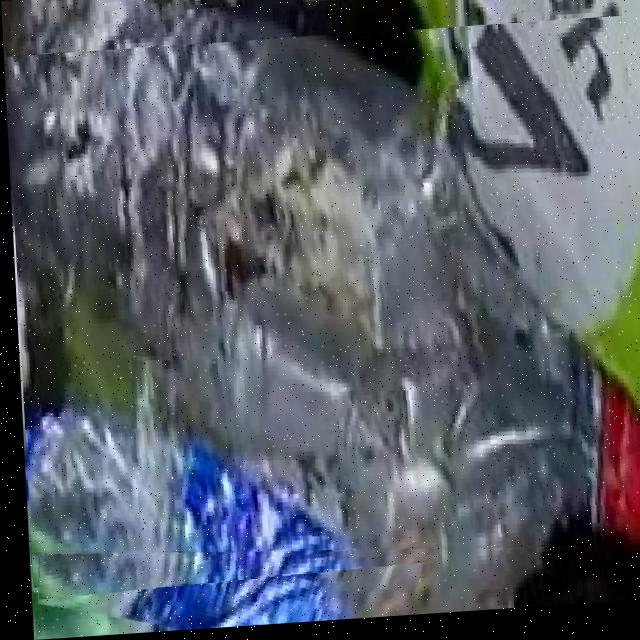plasticbottle: (4, 22, 640, 587), (16, 374, 433, 640)
